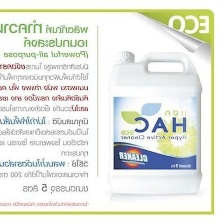cleaning_solution: (103, 47, 205, 199)
